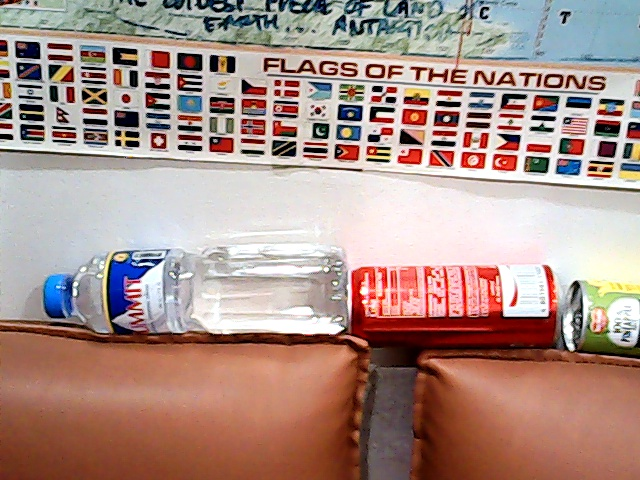Cola: (347, 259, 559, 345)
Pine Juice: (559, 276, 640, 363)
Summit Water: (41, 236, 356, 353)
